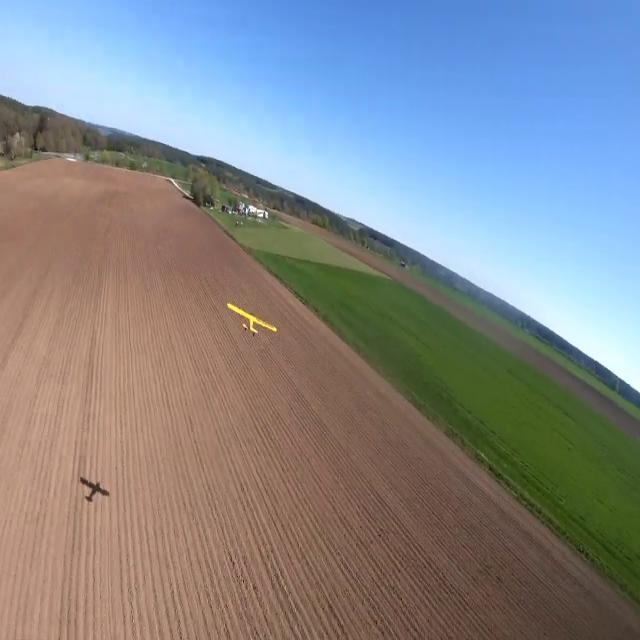iha: (227, 299, 279, 339)
